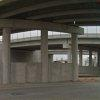Bridge: (1, 0, 100, 51)
